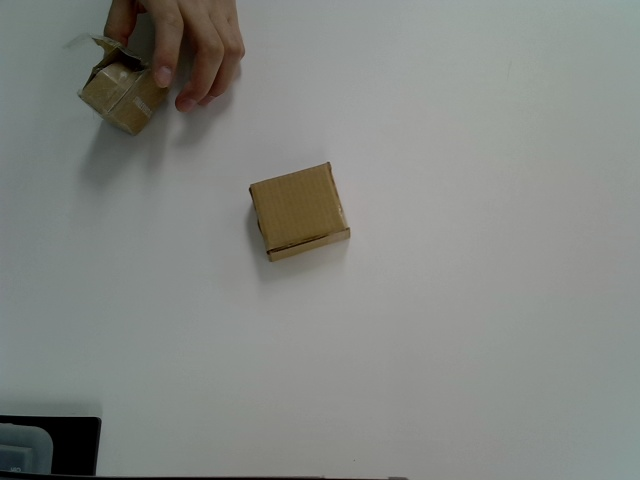defect: (77, 34, 172, 135)
normal: (249, 159, 353, 263)
